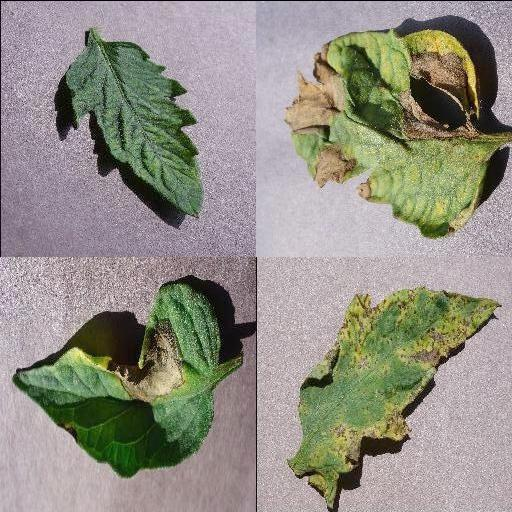Early Blight: (13, 282, 223, 476)
Late Blight: (283, 23, 487, 239)
Mosaic Virus: (62, 37, 204, 219)
Septoria: (287, 285, 502, 508)
